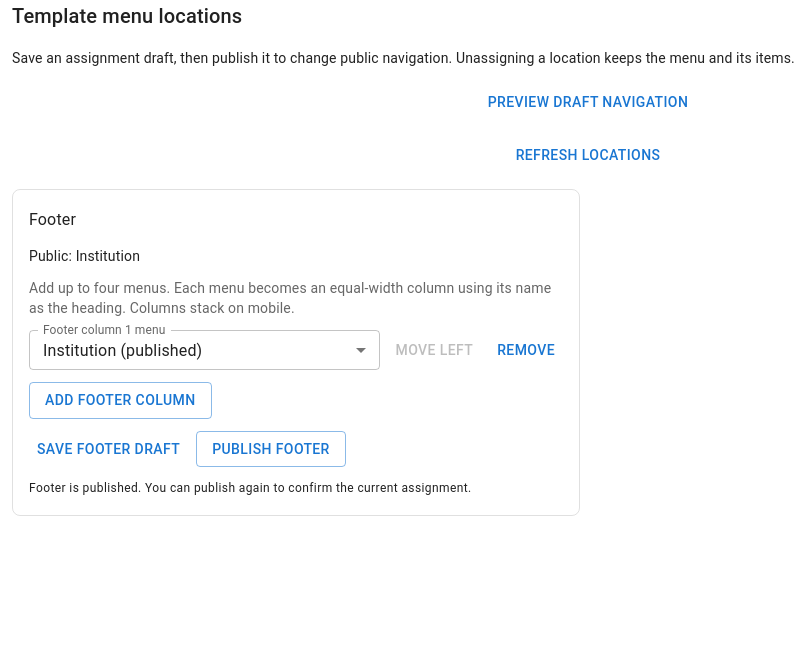
Test: keeps a saved footer and shows a publish failure so it can be retried
Check: the dropdown labelled "Footer column 1 menu" is shown, box x1=29 y1=330 x2=380 y2=370
Click the button "Add footer column": x=120, y=400 x1=29 y1=382 x2=212 y2=419
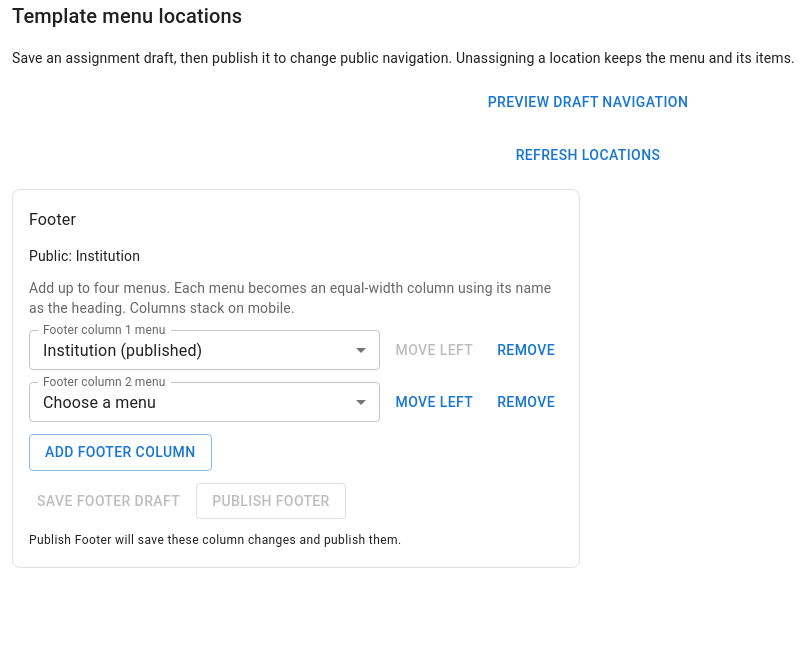
Select "Students (published)" in the dropdown labelled "Footer column 2 menu": x=204, y=402 x1=29 y1=382 x2=380 y2=422
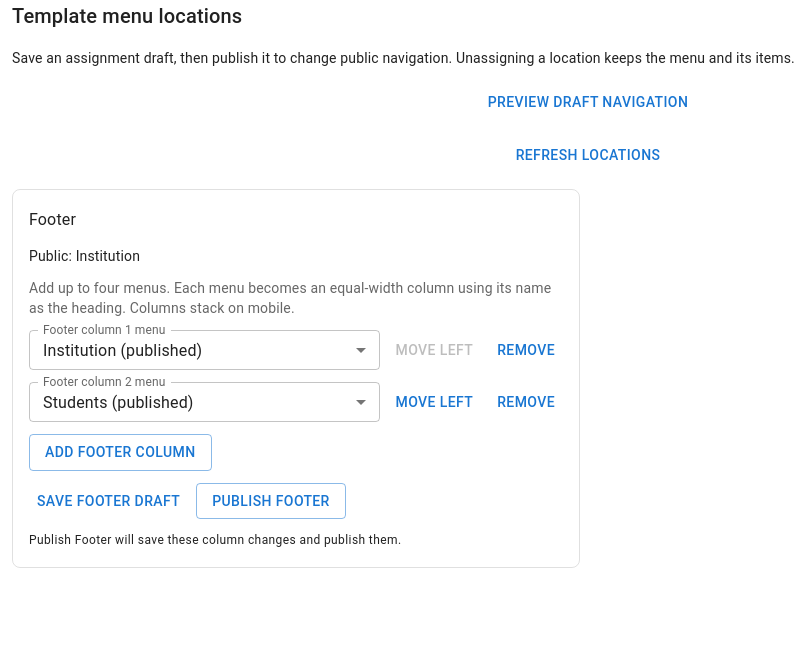
Click the button "Publish Footer": x=271, y=501 x1=196 y1=483 x2=346 y2=519
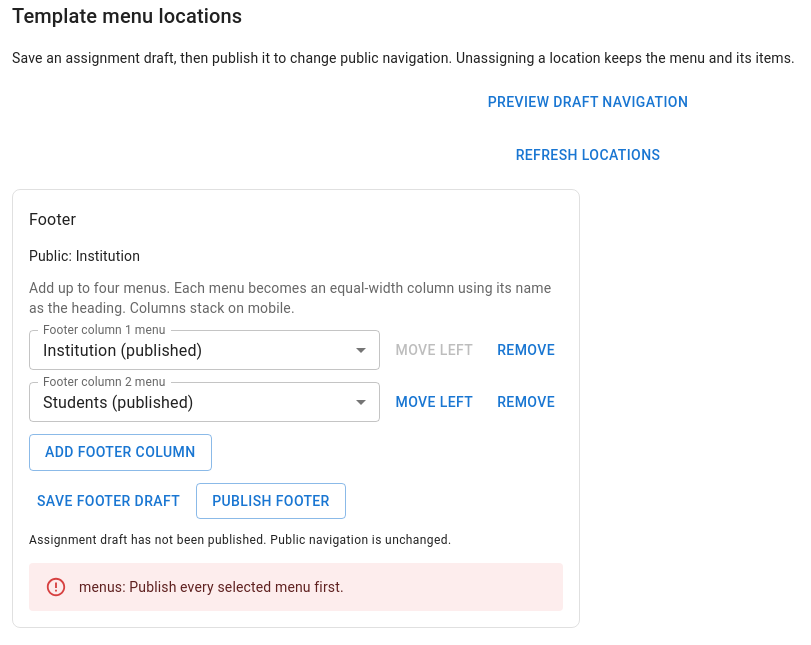
Check: the dropdown labelled "Footer column 2 menu" shows "Students (published)", box x1=29 y1=382 x2=380 y2=422
Check: the message shows "Publish every selected menu first.", box x1=79 y1=579 x2=344 y2=595
